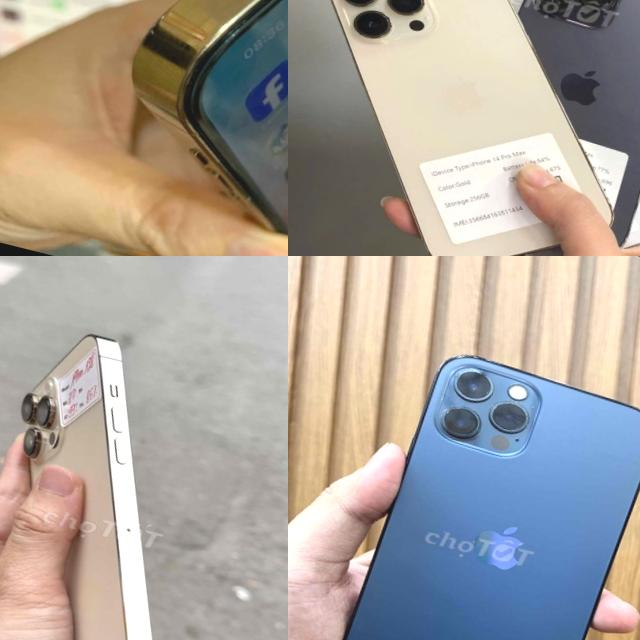gen_12_13: (331, 337, 640, 640)
gen_14: (288, 0, 640, 256), (0, 307, 252, 640), (71, 0, 288, 256)
